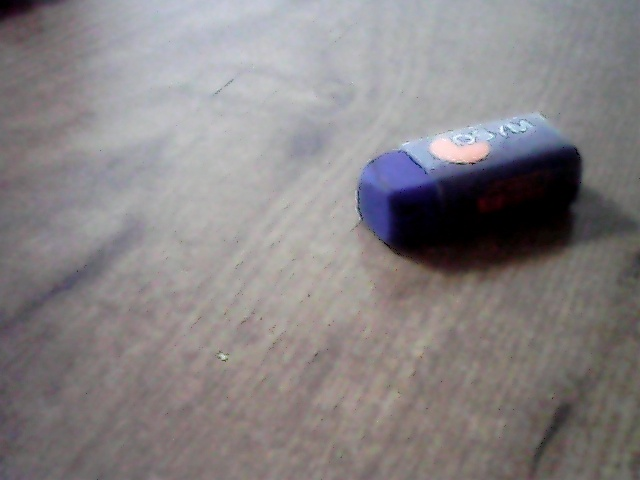bad: (357, 114, 582, 246)
